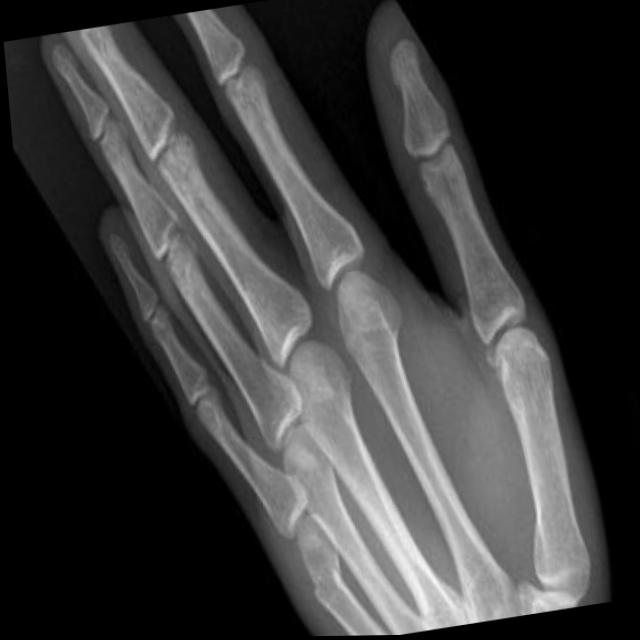fracture: (285, 549, 345, 622)
